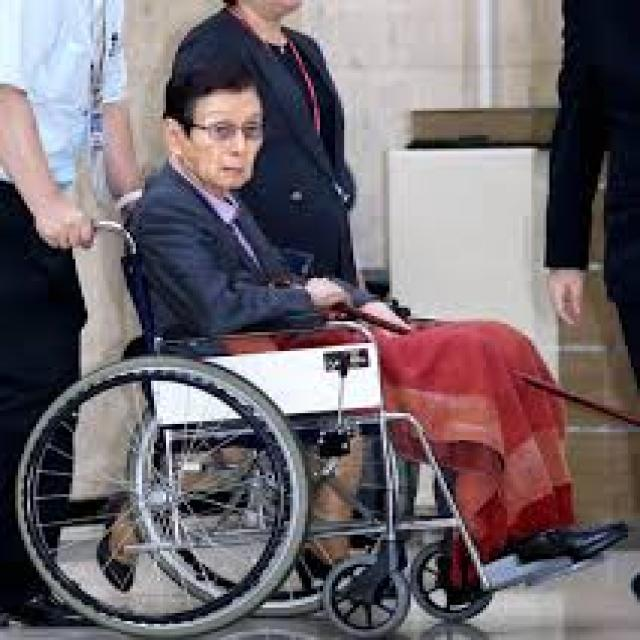wheelchair: (23, 68, 629, 633)
